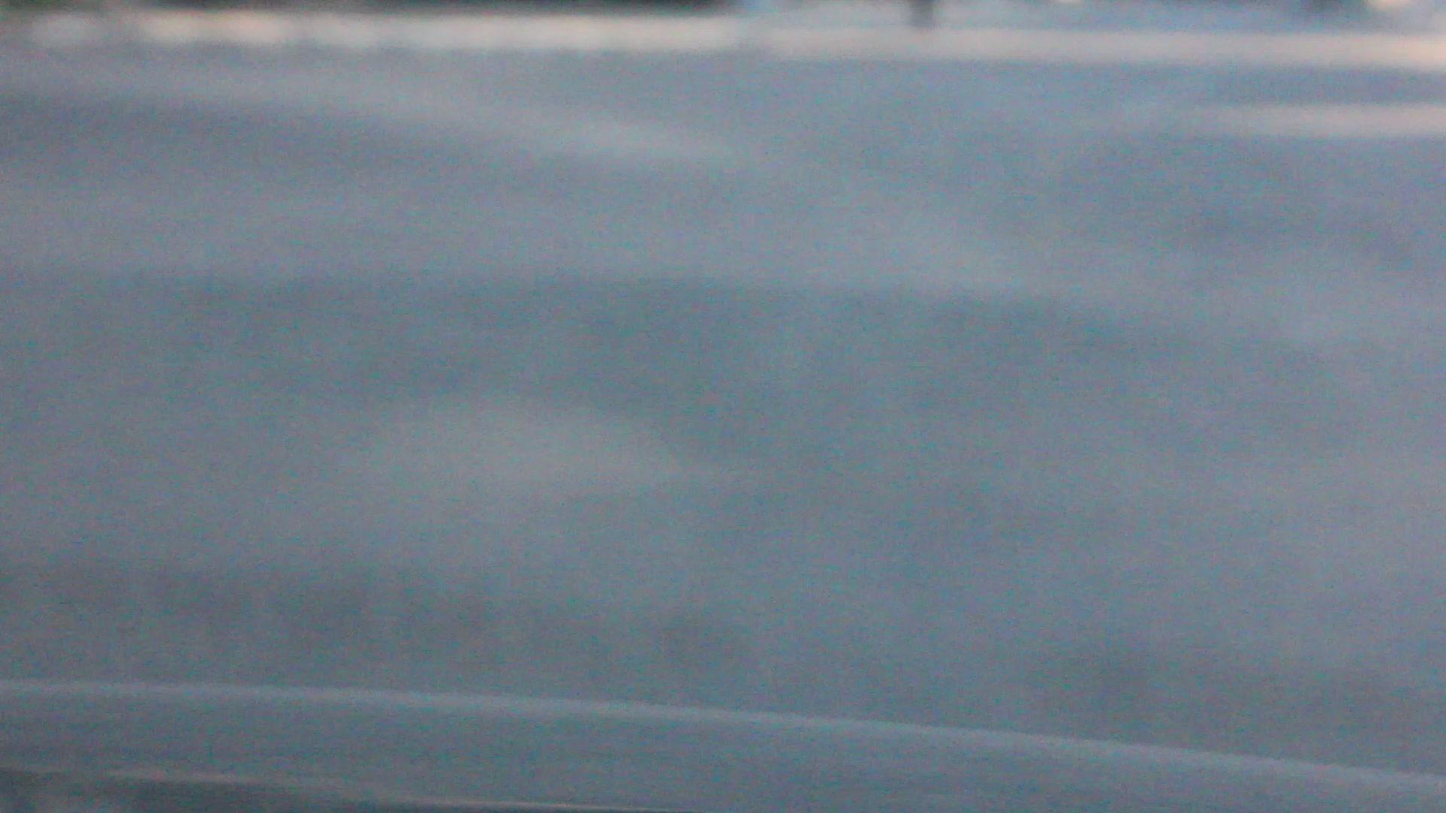Bump: (0, 224, 1446, 455)
